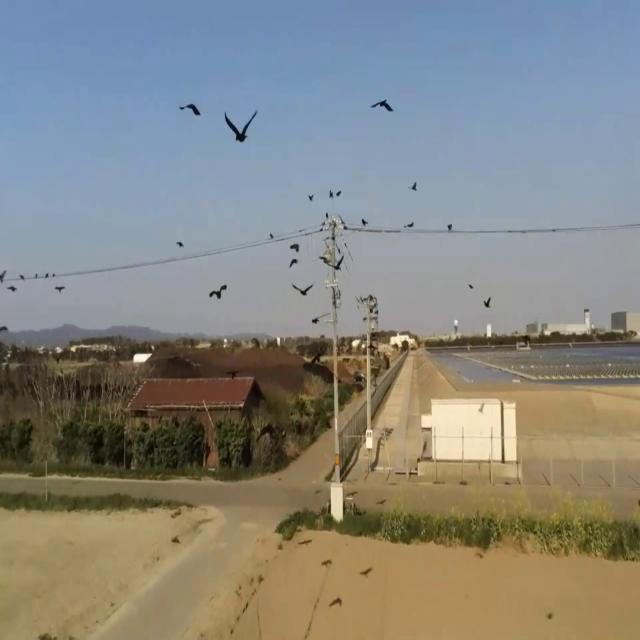bird: (225, 104, 258, 153), (180, 94, 201, 125), (292, 275, 313, 305), (372, 92, 393, 121), (208, 278, 228, 306), (288, 242, 300, 270), (311, 311, 322, 330), (55, 278, 65, 298), (7, 279, 17, 296), (484, 292, 492, 312), (176, 235, 184, 253), (361, 213, 368, 231), (0, 265, 6, 286), (406, 218, 414, 232), (308, 188, 314, 206), (411, 178, 417, 195), (447, 222, 452, 236), (269, 228, 273, 243)
